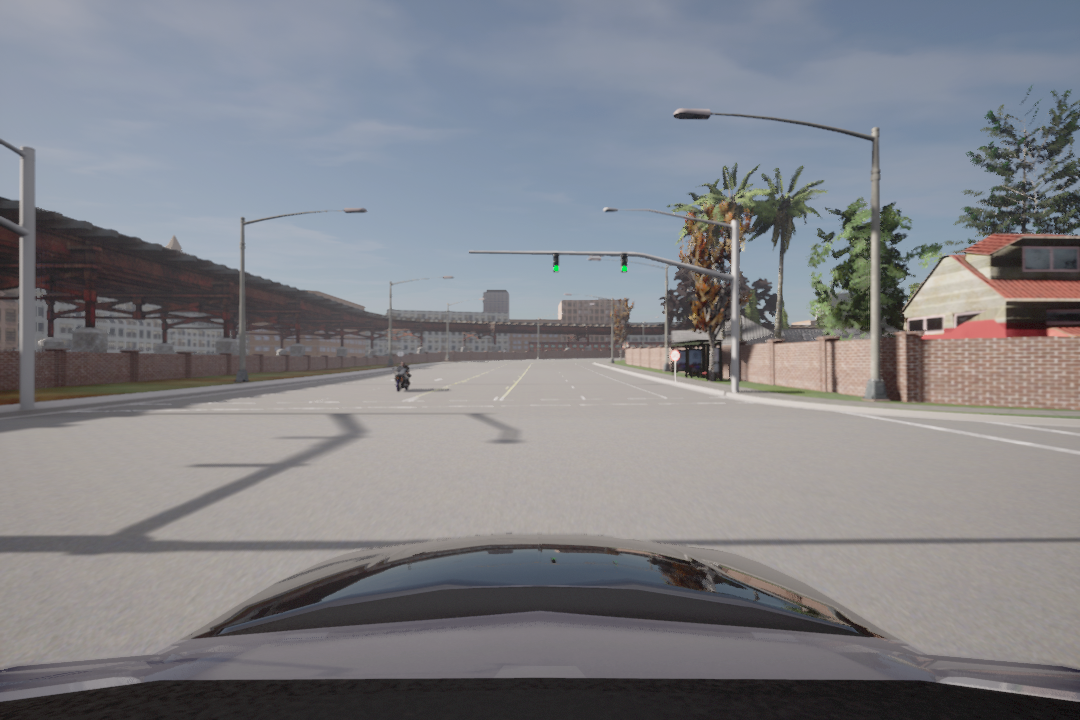TrafficLight: (549, 251, 563, 274), (619, 253, 632, 276)
